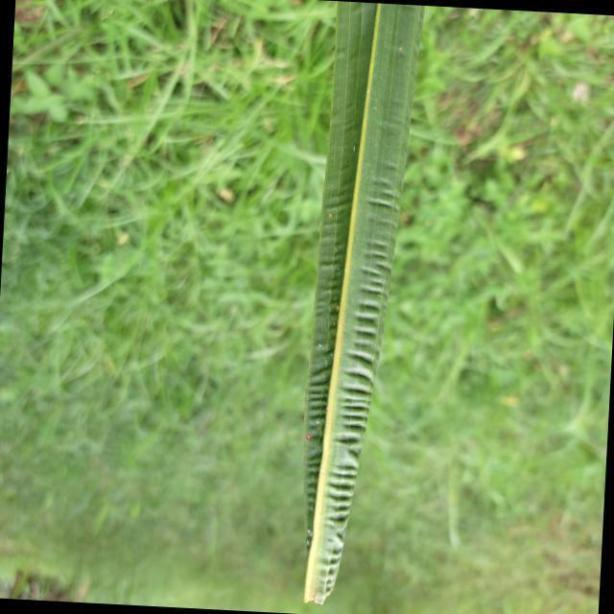Boron: (298, 0, 425, 610)
